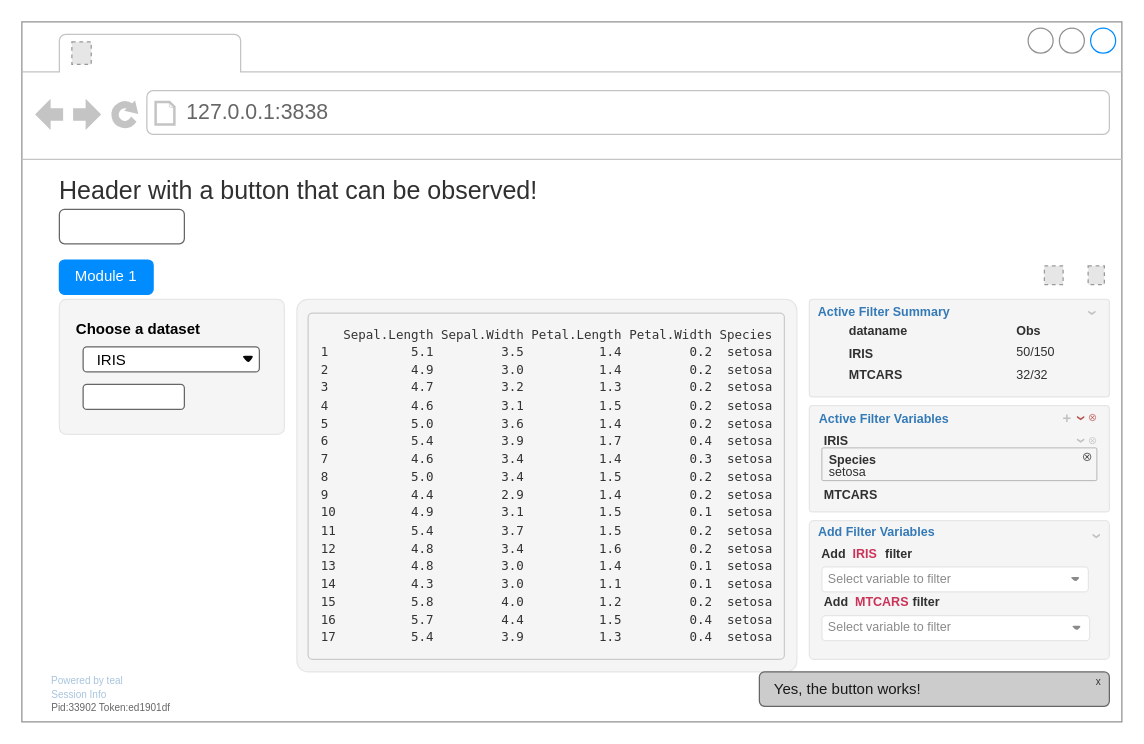
This 1144x744 diagram has some shape labels left out. Grey dashed boxes stand in for pictures. The shapes that lost their labels are listed below. From the top down, each one's centre as x and y in pixels, then its label:
At pixel 165 52: "Custom title".
At pixel 121 226: "Show notification".
At pixel 133 396: "Show R code".
